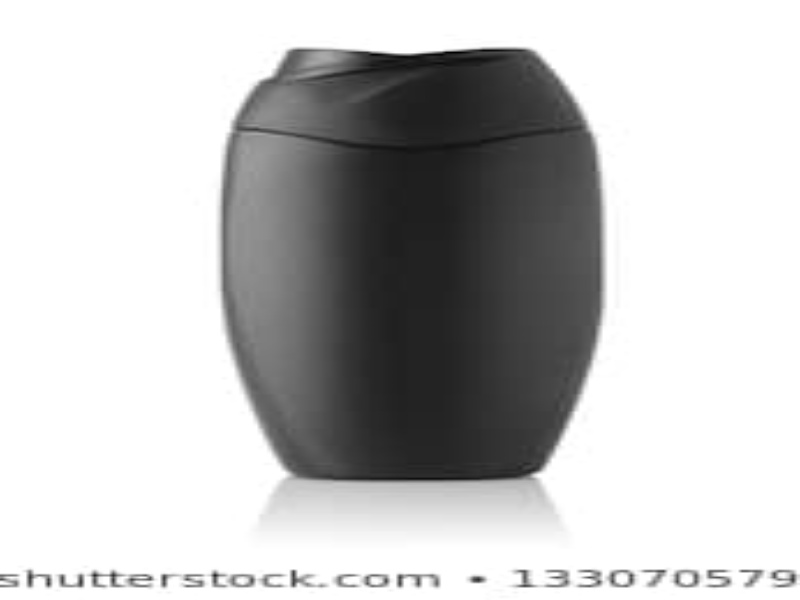shampoo-bottle: (215, 41, 598, 483)
